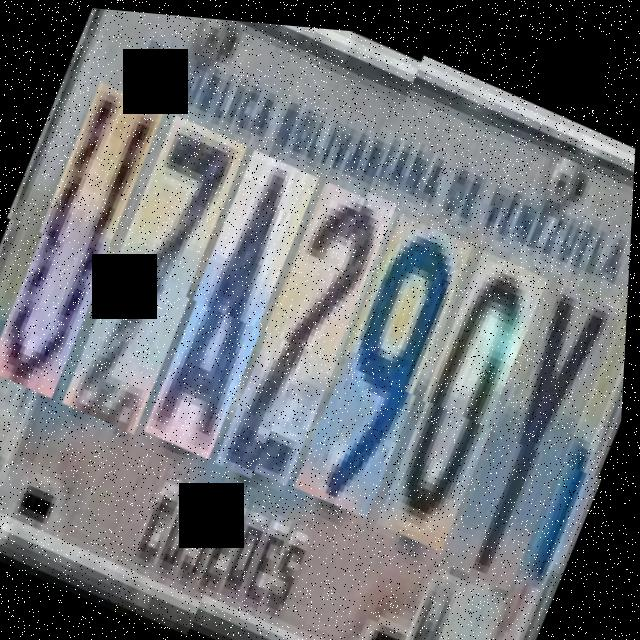2: (218, 169, 400, 494)
9: (293, 208, 477, 527)
A: (146, 138, 325, 462)
O: (377, 242, 552, 559)
U: (0, 73, 171, 404)
Y: (446, 273, 624, 596)
Z: (65, 105, 252, 438)
